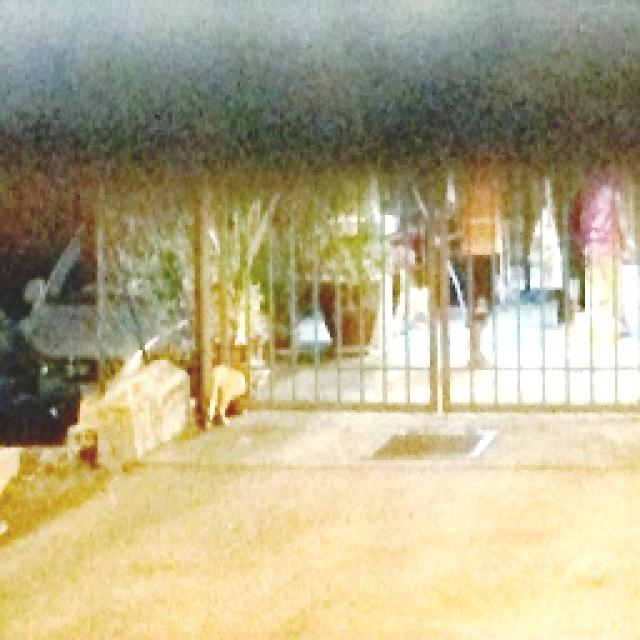cat: (207, 361, 248, 434)
